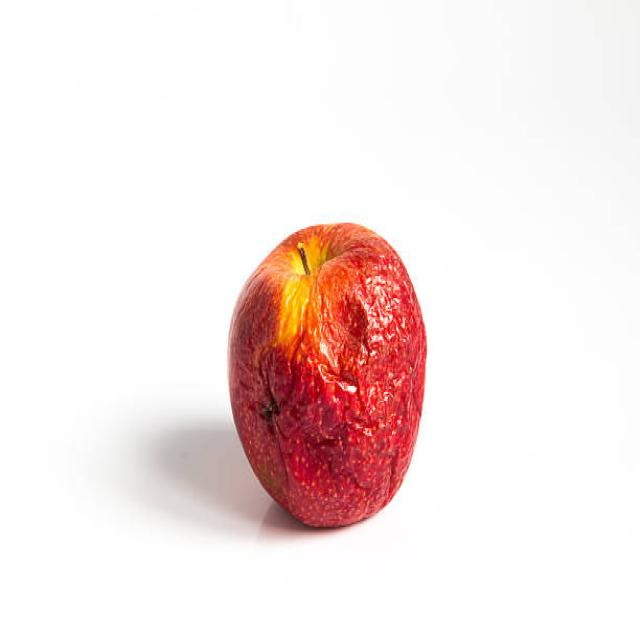overripe: (227, 214, 428, 535)
